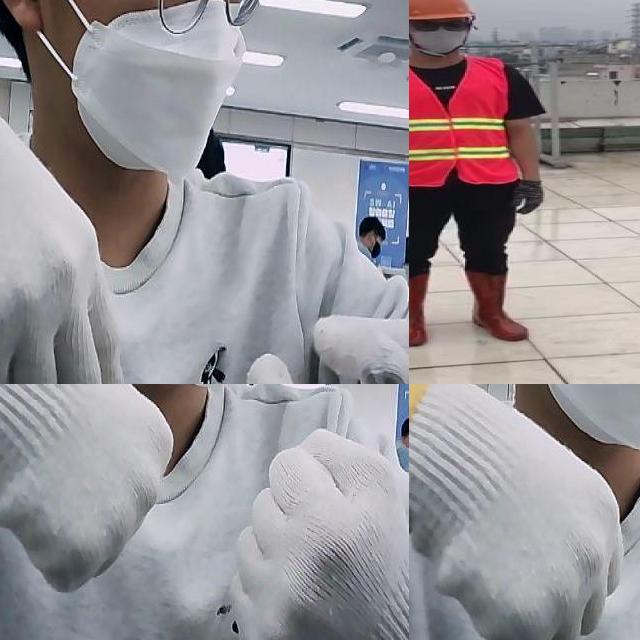BOOTS: (463, 269, 529, 343), (409, 274, 430, 348)
GLASS: (410, 17, 472, 32)
GLOVE: (409, 384, 624, 640), (0, 46, 126, 384), (232, 424, 409, 640), (0, 384, 173, 588), (245, 314, 409, 384), (513, 179, 544, 217)
HELMET: (409, 0, 476, 23)
VEST: (409, 56, 520, 189)
